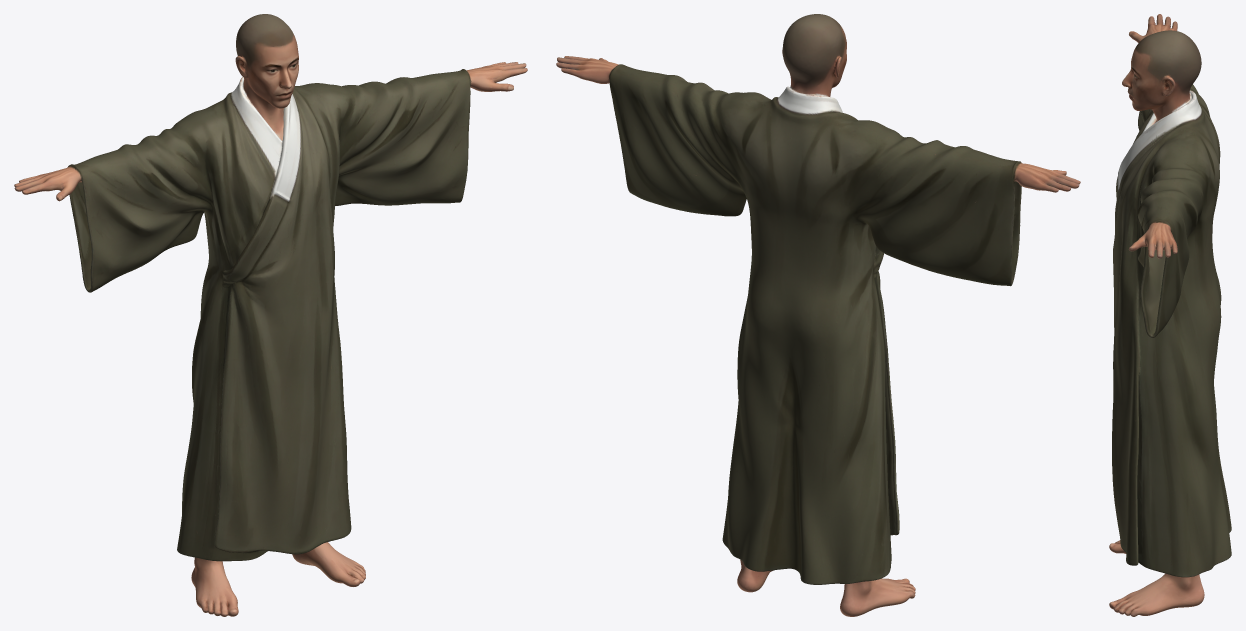
The model's file is _base_preview.glb.
3 renders of one model, left to right at view 1: azimuth 30°, elevation 25°; view 2: azimuth 150°, elevation 25°; view 3: azimuth 270°, elevation 25°, orthographic. The views are drawn at different scales.
Bounding box in the file's own units: 1.8 × 1.9 × 0.384.
1 material, 1 textured.
